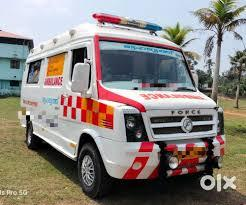ambulance: (20, 11, 224, 197)
